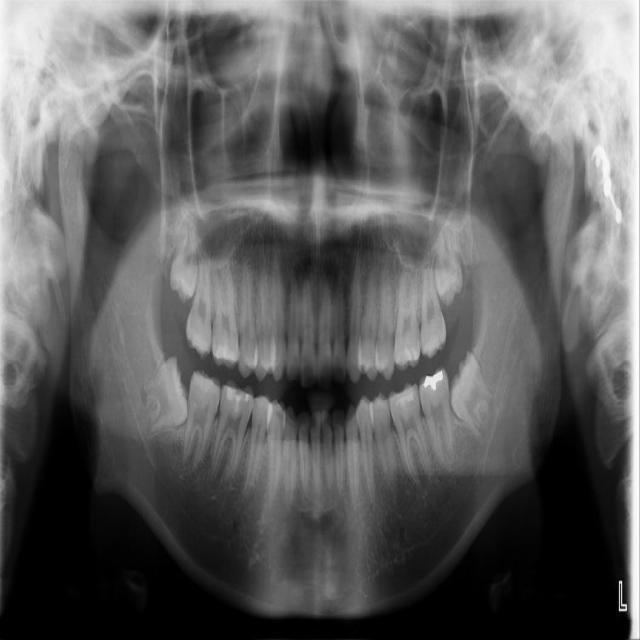Filling: (222, 385, 252, 410), (213, 343, 236, 368), (420, 371, 444, 392), (397, 343, 418, 364)
